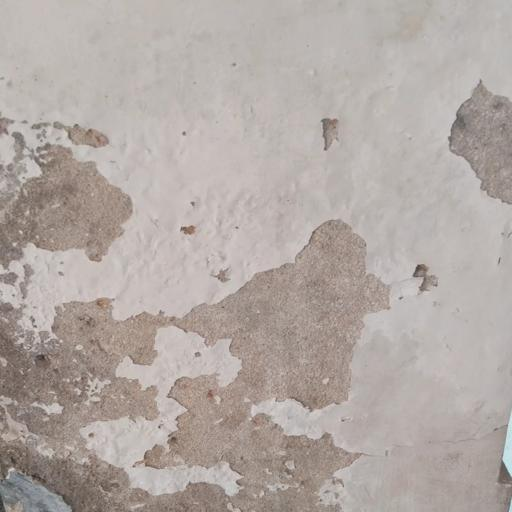peeling: (0, 100, 438, 512), (427, 75, 512, 209)
